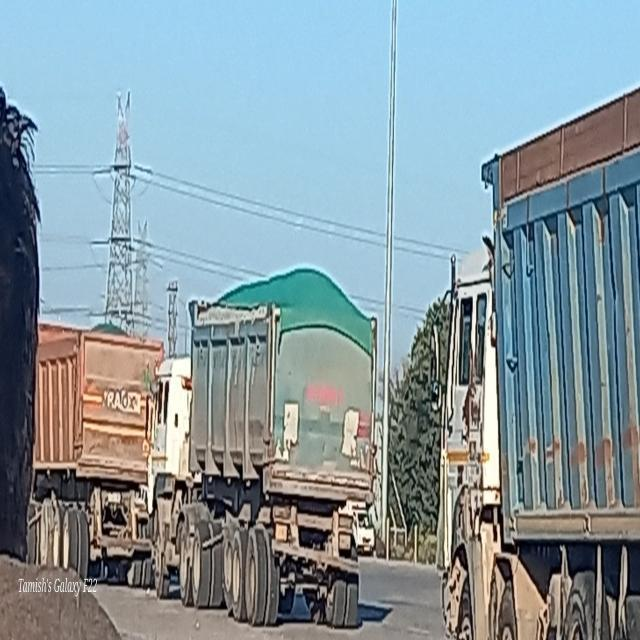covered: (181, 264, 392, 608)
uncovered: (443, 99, 640, 612), (38, 316, 175, 569)
